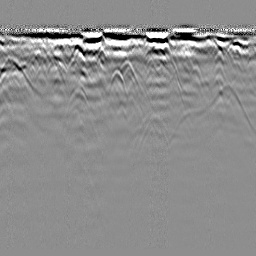cavity: (119, 56, 139, 86)
